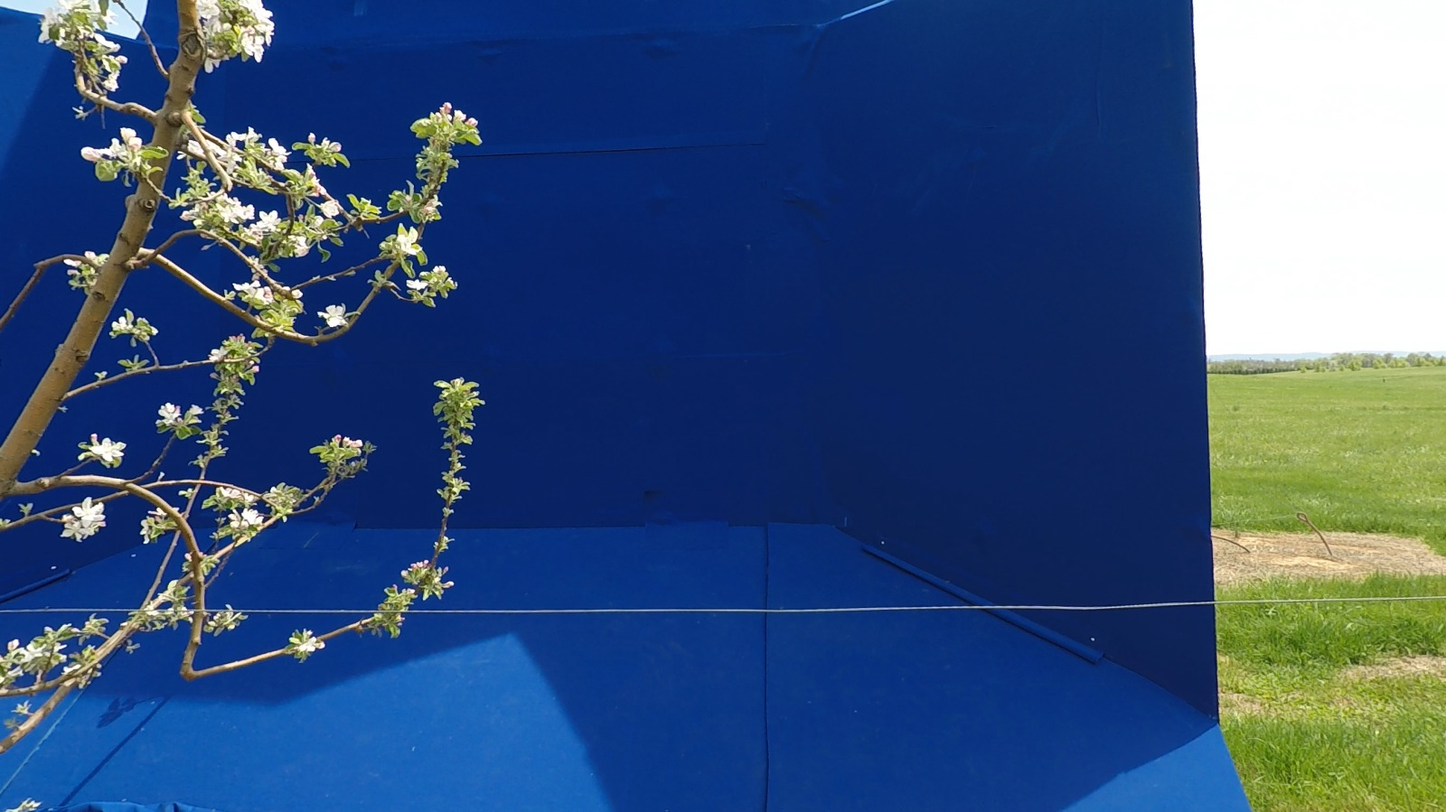flower: (239, 0, 275, 62), (81, 128, 142, 163), (55, 499, 105, 541), (233, 265, 276, 305), (197, 0, 232, 40), (206, 140, 243, 175), (215, 194, 255, 224), (39, 5, 67, 43), (225, 508, 264, 534), (244, 211, 283, 236), (16, 641, 52, 667), (89, 437, 126, 462), (397, 228, 422, 256), (269, 139, 292, 169), (318, 305, 349, 327), (226, 127, 258, 148), (156, 403, 182, 426), (89, 33, 120, 52), (60, 0, 101, 14), (96, 70, 121, 92), (288, 236, 312, 258), (339, 437, 363, 457), (202, 346, 230, 363), (295, 638, 325, 652), (103, 55, 127, 70), (221, 487, 242, 499), (103, 10, 119, 25), (205, 58, 221, 73), (452, 111, 466, 128), (407, 280, 428, 291), (465, 118, 478, 131)
